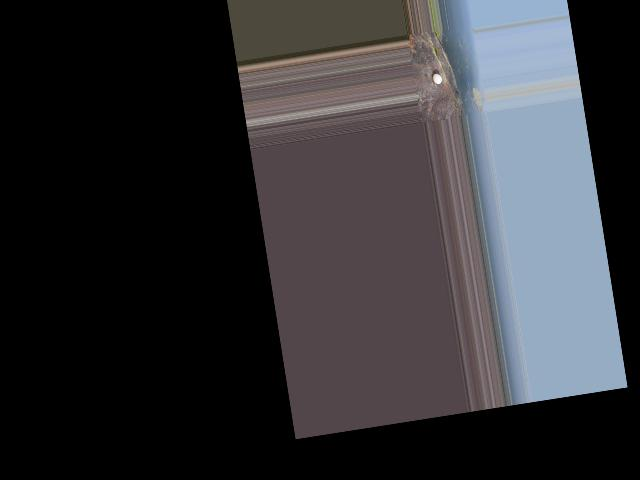egg: (432, 73, 442, 85)
